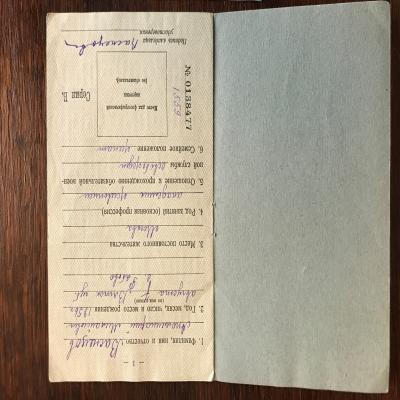document: (45, 1, 392, 394)
